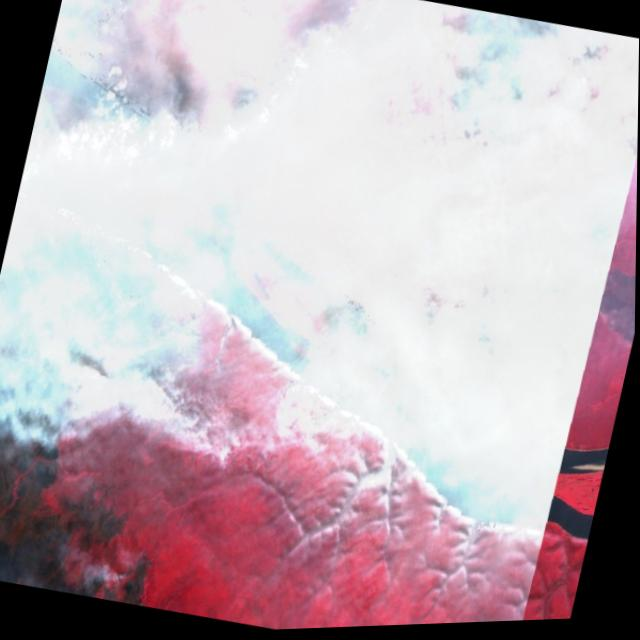fire: (515, 180, 636, 373), (162, 307, 219, 397), (95, 354, 131, 396)
